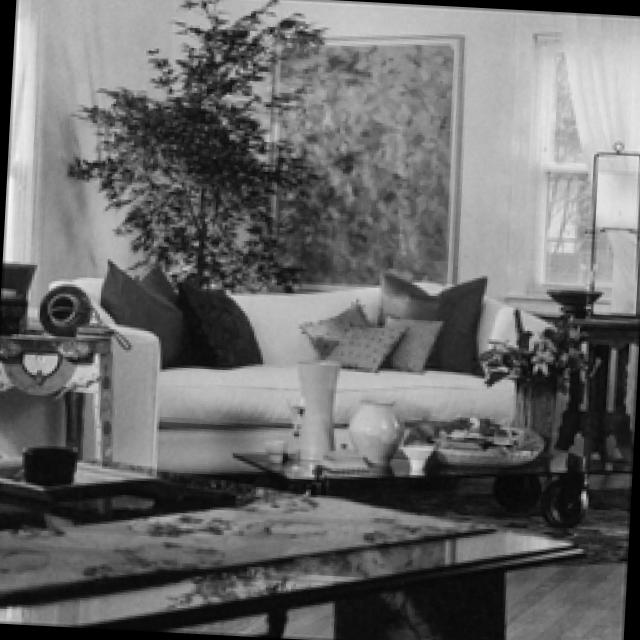2001: (507, 15, 607, 292), (3, 4, 38, 258)
bouquet: (476, 310, 590, 432)
bowl -X: (21, 442, 74, 480), (539, 285, 597, 315)
cup and saucer: (396, 443, 431, 470)
curtain crop: (554, 12, 640, 314)
fruits: (401, 410, 538, 467)
lamp crop: (582, 136, 640, 314), (585, 171, 640, 229)
painting crop: (265, 35, 458, 280)
pillow occluded: (376, 268, 483, 373), (96, 259, 182, 362), (176, 285, 260, 364), (318, 321, 400, 365), (380, 318, 443, 370)
plant -x: (68, 2, 312, 284)
small table part: (233, 433, 598, 481), (531, 309, 634, 471), (0, 317, 118, 457), (0, 456, 164, 503)
sofa bed: (47, 275, 552, 477)
table -X: (0, 488, 581, 625)
vase -X: (293, 358, 338, 456), (347, 404, 399, 461), (37, 281, 88, 334), (0, 258, 33, 330)
